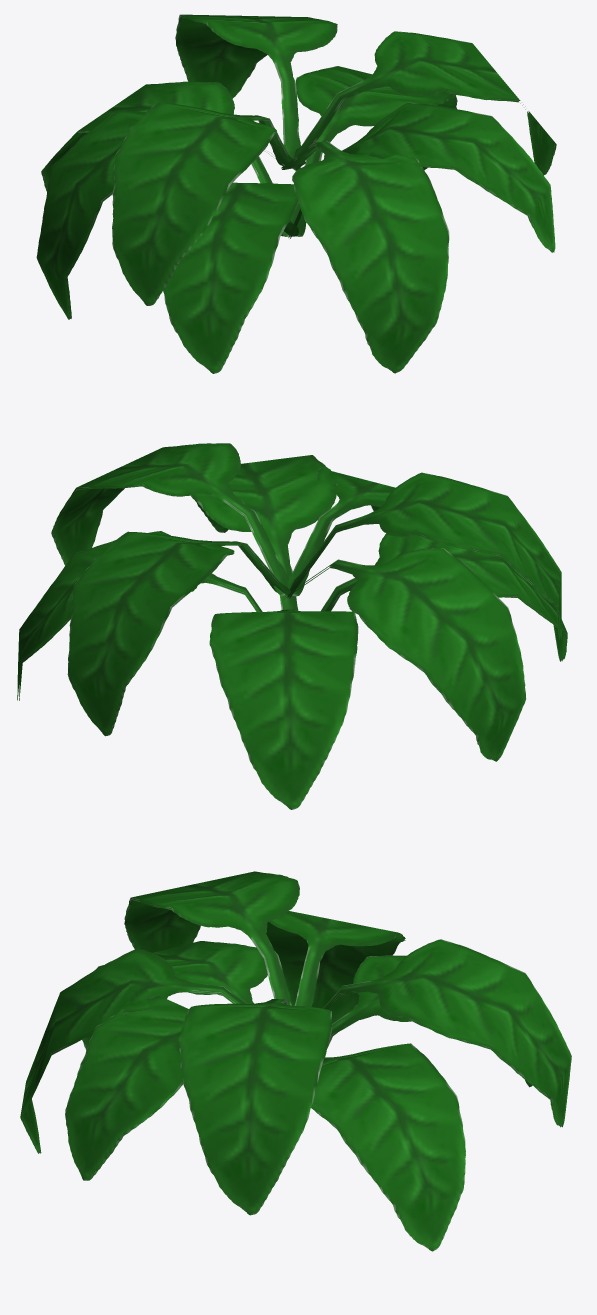
Rendered from Bush4.FBX.
The picture shows the model from 3 angles, top to bottom: view 1: azimuth 30°, elevation 25°; view 2: azimuth 150°, elevation 25°; view 3: azimuth 270°, elevation 25°; orthographic projection. The views are drawn at different scales.
Visible parts, largest first — view 1: Bush4; view 2: Bush4; view 3: Bush4.
Part boxes in pixels (x1,y1,x2,y2): Bush4: [36, 14, 556, 373]; Bush4: [17, 443, 567, 809]; Bush4: [20, 871, 571, 1251].
Bounding box in the file's own units: 6.43 × 3.07 × 6.32.
Materials: 1 (1 with a texture image).
